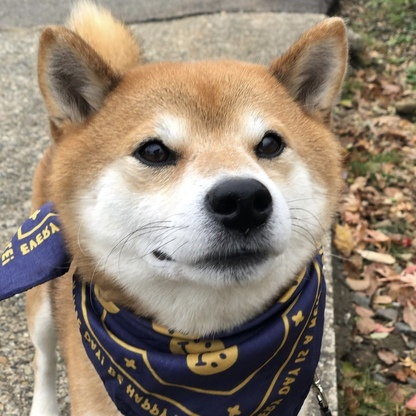shiba: (22, 1, 353, 416)
